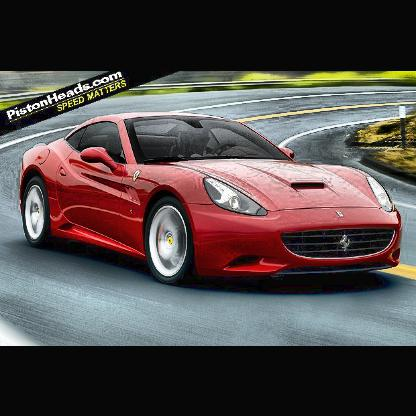Ferrari California Convertible 2012: (20, 113, 404, 288)
